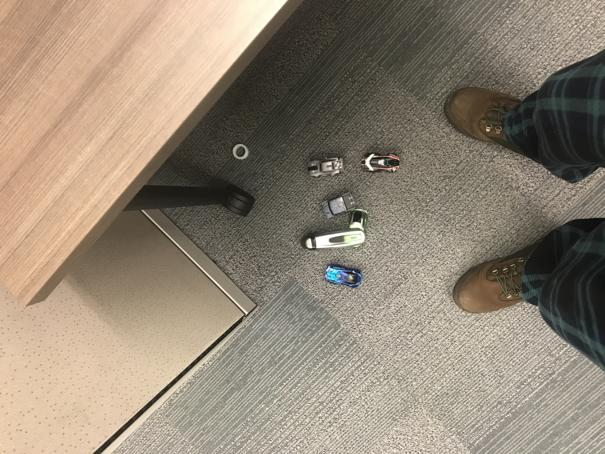Charger: (308, 152, 345, 176)
Freewheel: (302, 209, 369, 251)
MXT: (320, 192, 356, 218)
Shock: (325, 262, 363, 289)
Skull: (362, 147, 404, 174)
